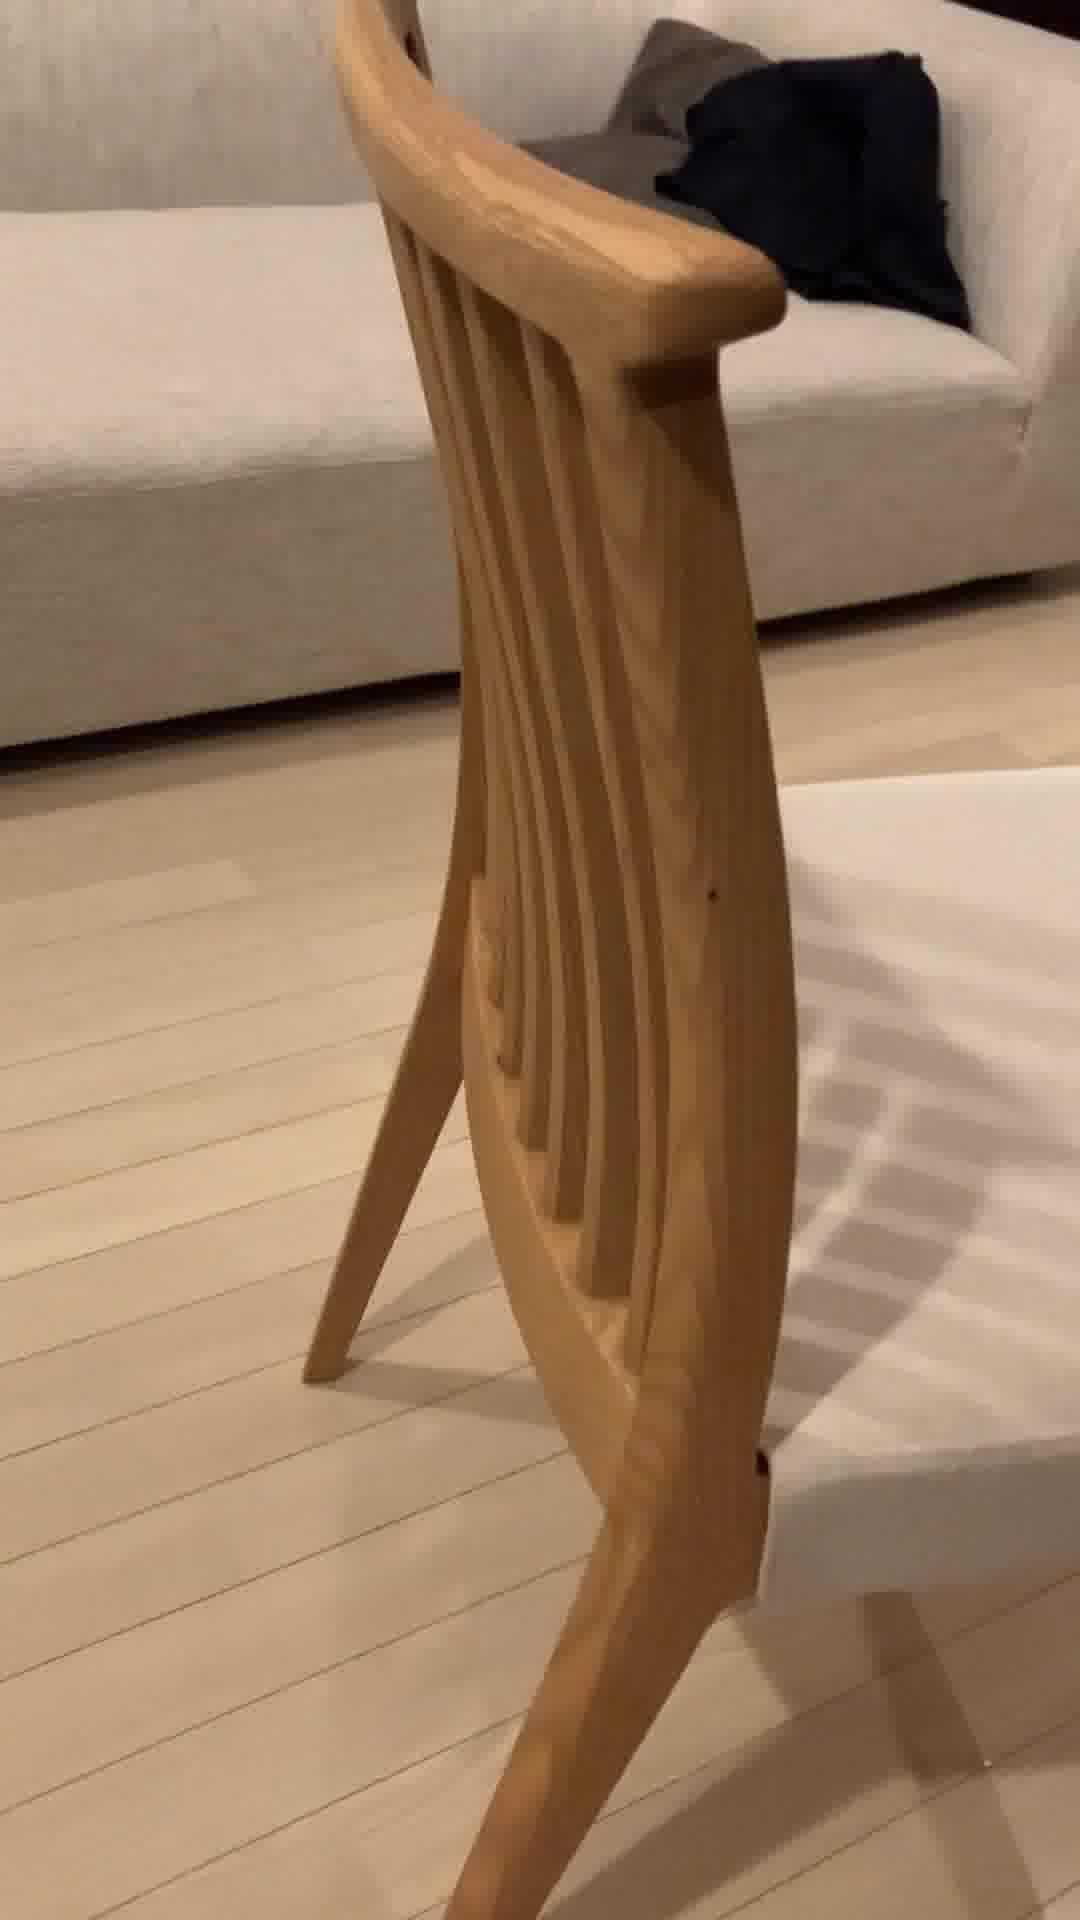takumikan-chair: (291, 0, 1080, 1920)
